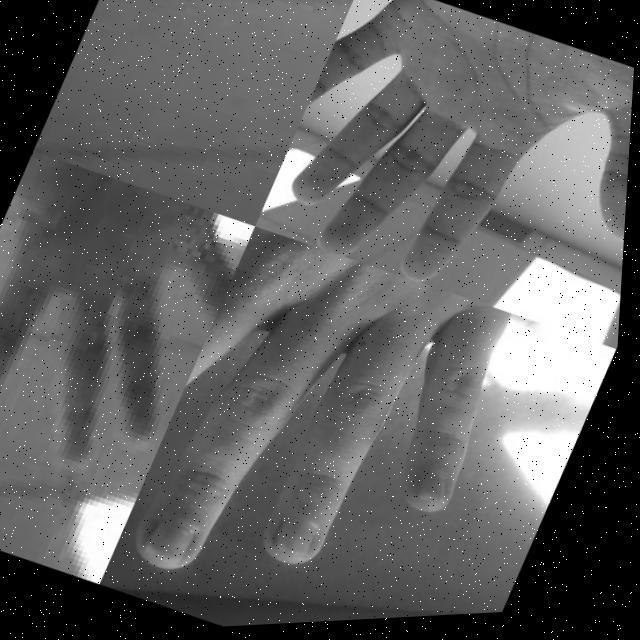no-gloves: (115, 216, 539, 634), (251, 0, 640, 363), (0, 141, 261, 520)
